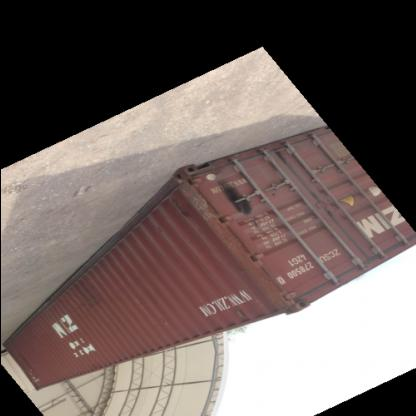Damage: (218, 176, 254, 224), (63, 292, 103, 323), (12, 348, 39, 378), (168, 194, 192, 224), (226, 302, 254, 322)
